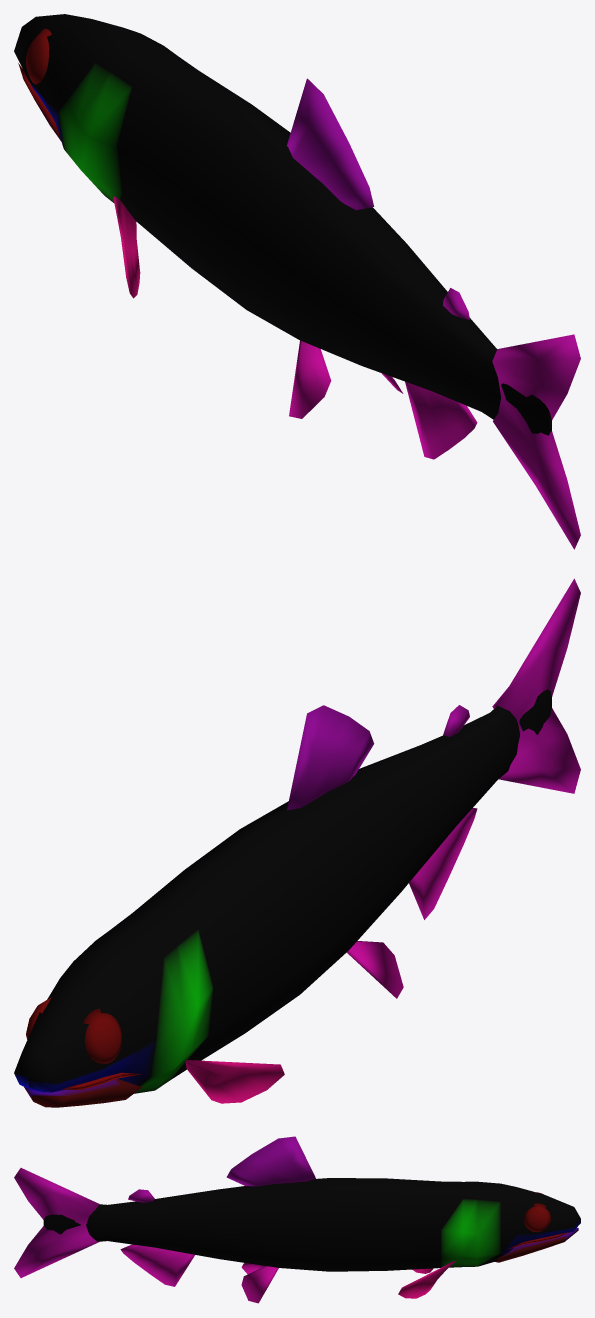
File: sockeye_smolt_game.glb
3 views of the same model, one above another, from view 1: azimuth 30°, elevation 25°; view 2: azimuth 150°, elevation 25°; view 3: azimuth 270°, elevation 25° (orthographic). The views are drawn at different scales.
Parts seen in each view (by area): view 1: sockeye_smolt_game; view 2: sockeye_smolt_game; view 3: sockeye_smolt_game.
Boxes of the visible parts, x1,y1,x2,y2 form: sockeye_smolt_game: [14, 14, 580, 549]; sockeye_smolt_game: [14, 578, 580, 1107]; sockeye_smolt_game: [14, 1136, 580, 1303].
Bounding box in the file's own units: 0.0965 × 0.1774 × 0.5939.
